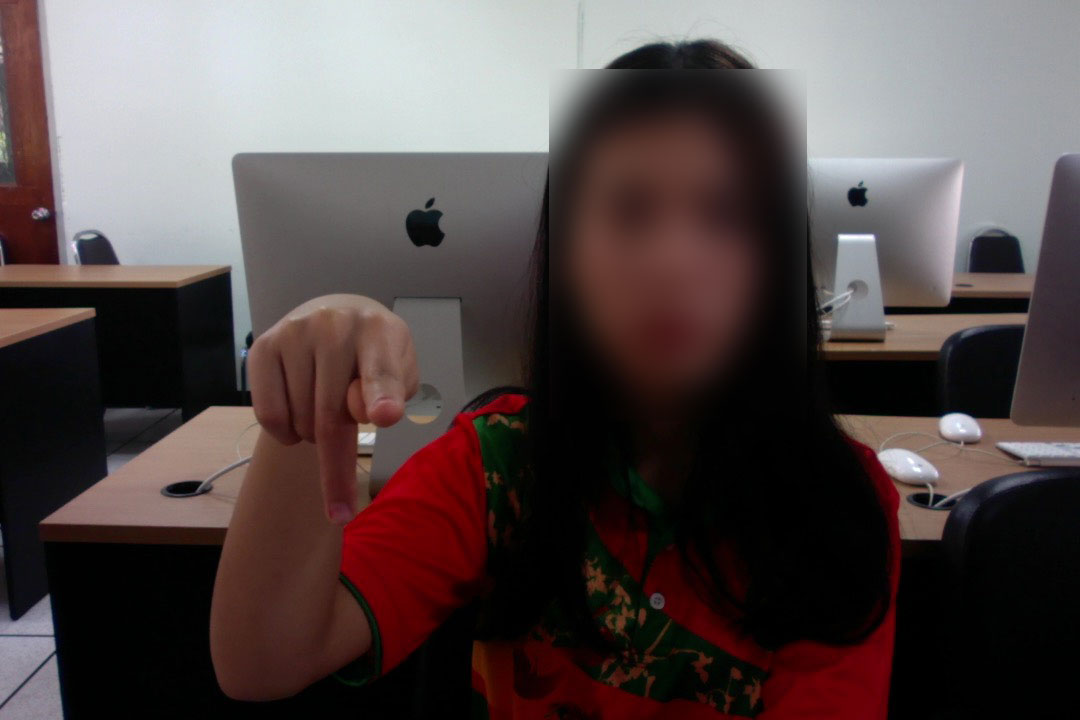por: (245, 282, 428, 529)
